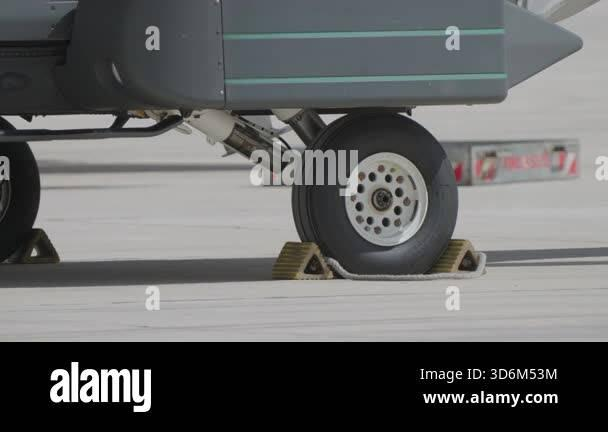chock: (426, 238, 488, 279), (271, 241, 333, 279), (4, 227, 61, 264)
wheel: (292, 110, 457, 272), (1, 135, 42, 259)
